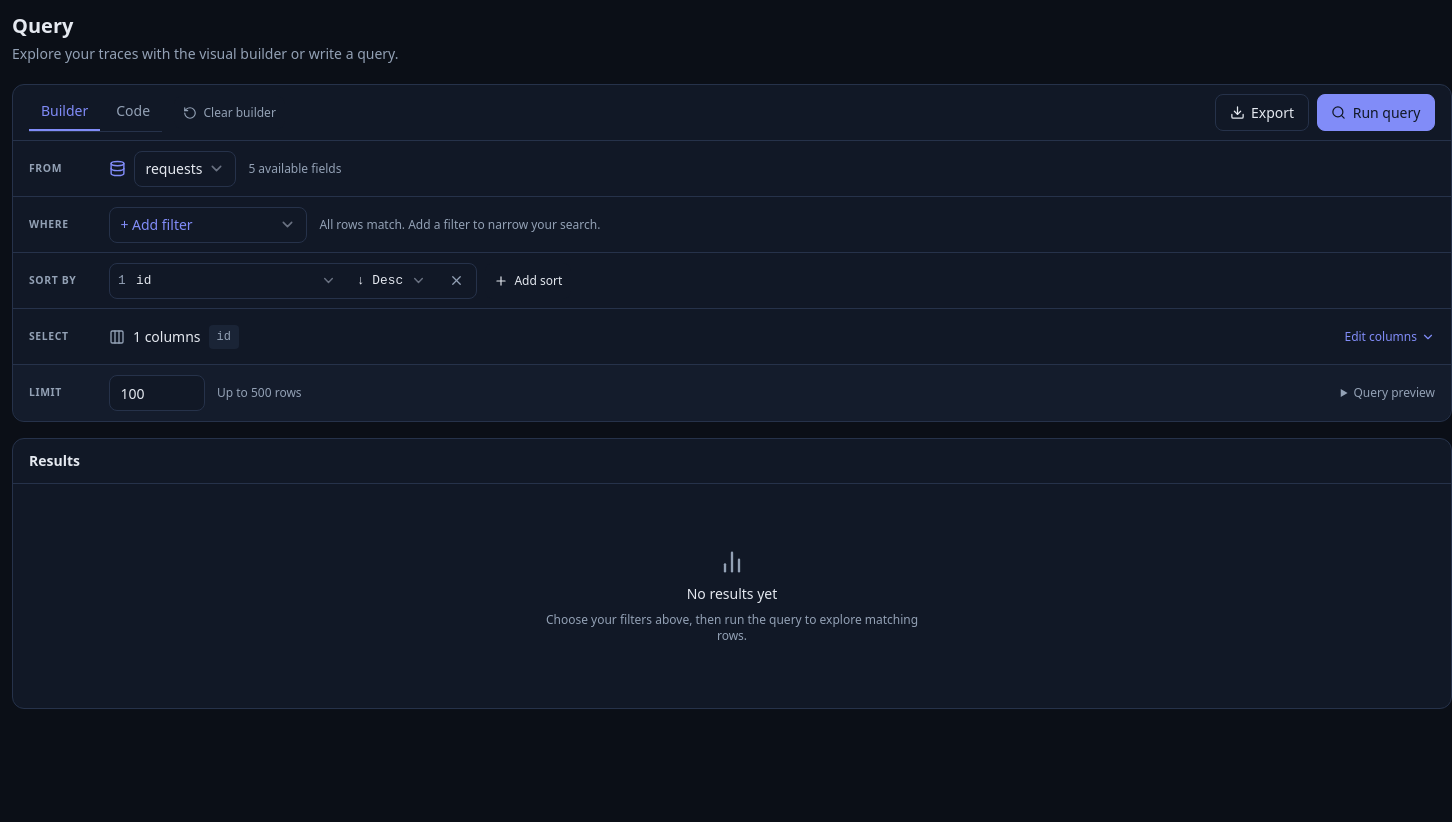
Test: blocks invalid row limit 1.5 before sending the query
Check: the tab "Builder" is shown, box [29,93,100,131]
Replace the text in the number field labelled "Limit" with "1.5". click: (157, 393)
box: [109,375,205,411]
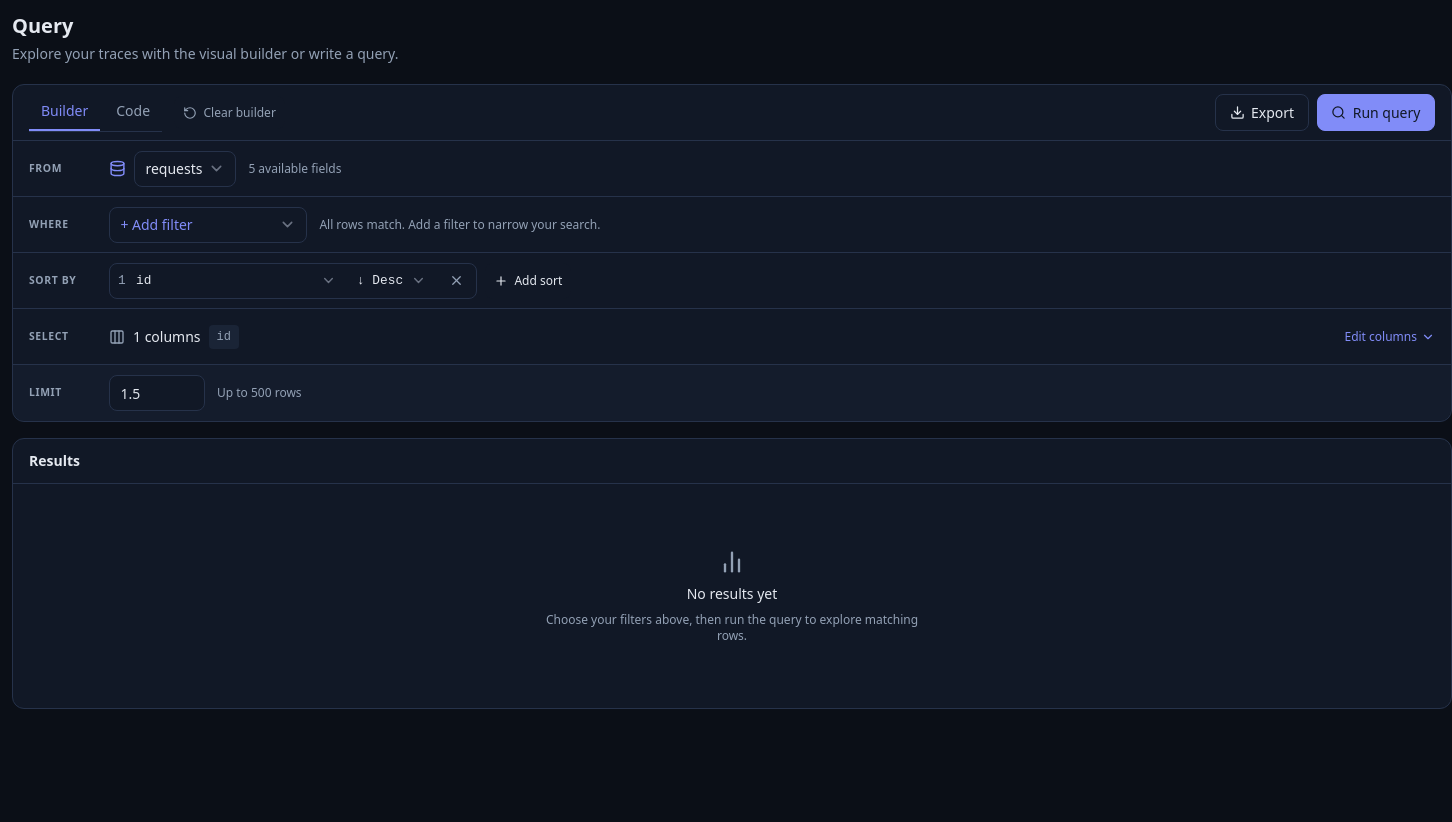
Click the button "Run query". click: (1376, 112)
box: [1317,94,1435,131]
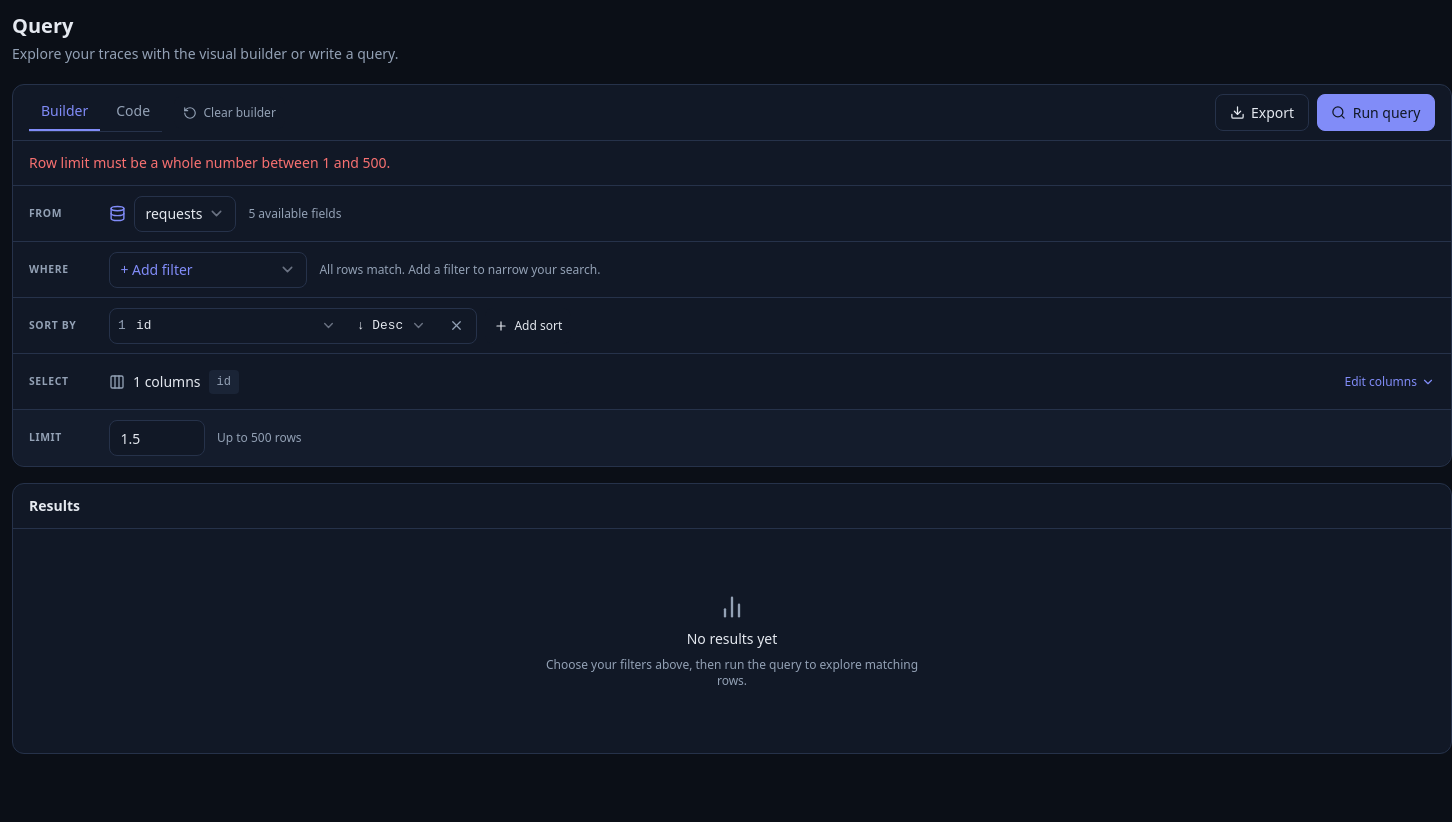
Check: the message "Row limit must be a whole number between 1 and 500." is shown, box [13,141,1451,186]
